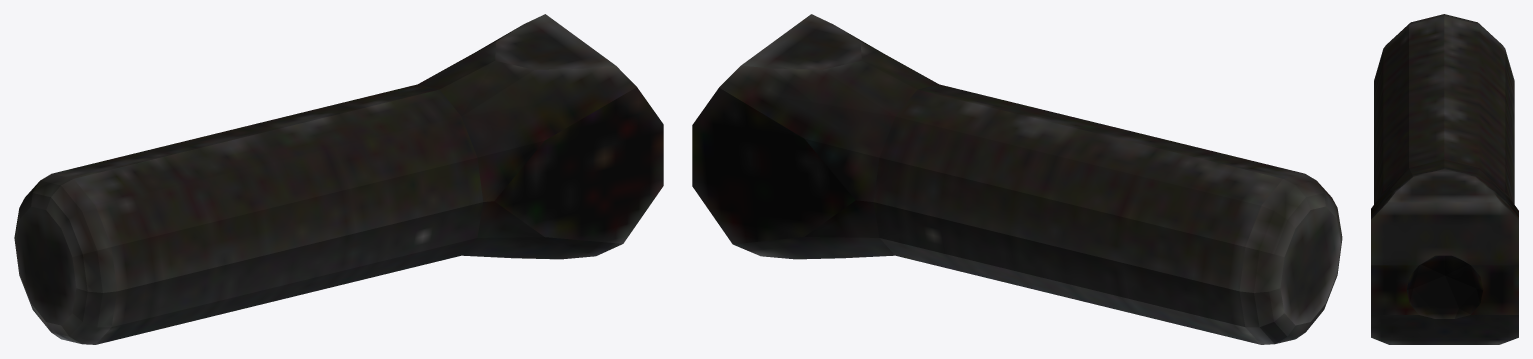
3 views of the same model, side by side, from view 1: azimuth 30°, elevation 25°; view 2: azimuth 150°, elevation 25°; view 3: azimuth 270°, elevation 25° (orthographic). The views are drawn at different scales.
Parts seen in each view (by area): view 1: TW_62e14904c2699c0ec93adc47_PZ_Import; view 2: TW_62e14904c2699c0ec93adc47_PZ_Import; view 3: TW_62e14904c2699c0ec93adc47_PZ_Import.
Part boxes in pixels (x1,y1,x2,y2): TW_62e14904c2699c0ec93adc47_PZ_Import: [14, 14, 663, 344]; TW_62e14904c2699c0ec93adc47_PZ_Import: [692, 14, 1342, 344]; TW_62e14904c2699c0ec93adc47_PZ_Import: [1371, 14, 1518, 344].
Bounding box in the file's own units: 0.0145 × 0.00406 × 0.00454.
1 material, 1 textured.
